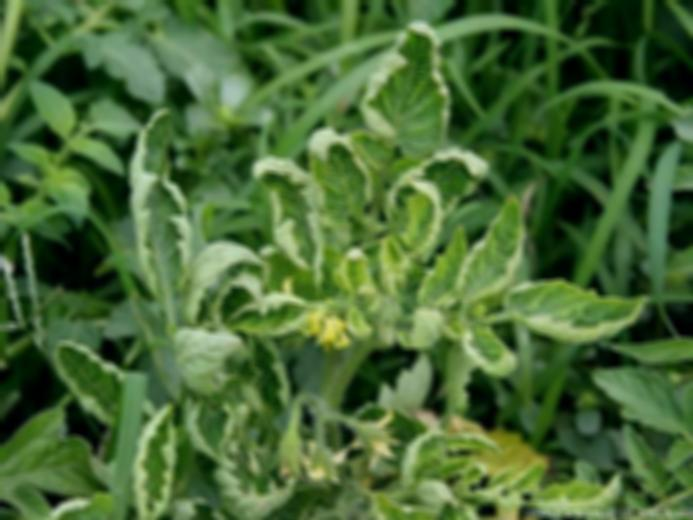Tomato leaf yellow virus: (359, 12, 445, 199), (490, 272, 656, 350), (237, 142, 335, 273), (380, 139, 491, 251), (447, 191, 533, 304), (296, 119, 377, 230), (130, 403, 188, 520), (221, 293, 318, 334), (338, 248, 374, 305)
